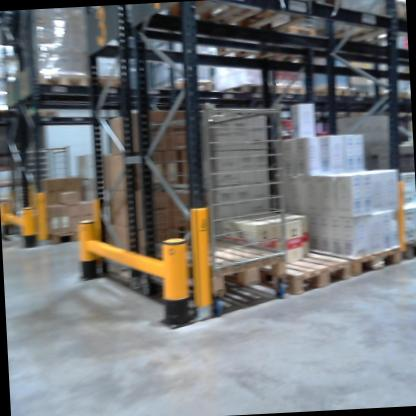pallet: (141, 225, 291, 307), (219, 233, 350, 298), (207, 0, 345, 61), (287, 0, 406, 60), (150, 0, 298, 36), (10, 67, 96, 124), (292, 241, 405, 281), (213, 76, 278, 103), (146, 76, 211, 99), (37, 225, 92, 249), (305, 83, 355, 109), (89, 73, 135, 99), (273, 82, 307, 105), (403, 233, 416, 261)
